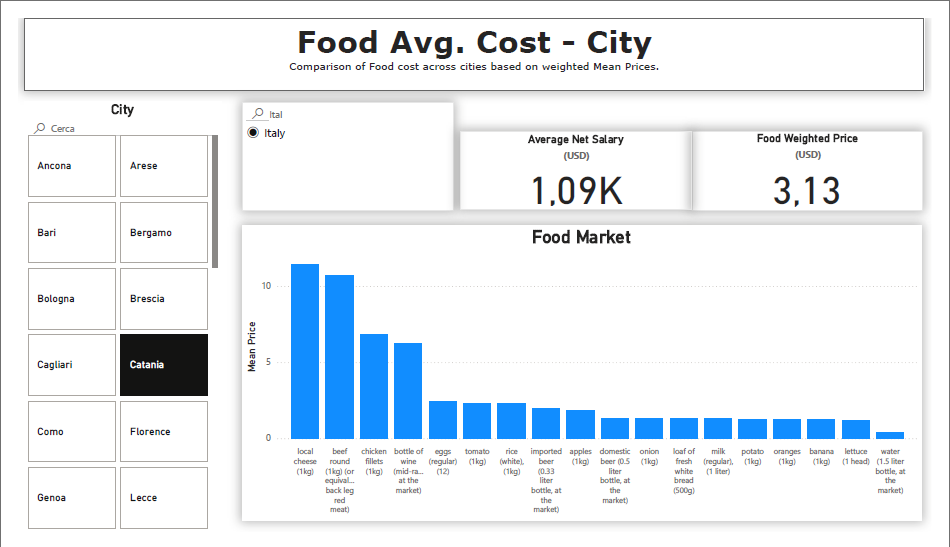

The page's visual inventory and layout, read from the dashboard file:
{"tool":"powerbi","page":{"name":"Food","canvas":[1280,720],"ordinal":2},"visuals":[{"type":"columnChart","title":"Food Market","fields":{"Y":["livingcost vw_valcar_transformed.Avg_Food_City"],"Category":["livingcost vw_valcar_transformed.Paramethers"]},"box":[314.3,291.4,951.4,412.9],"z":0},{"type":"textbox","box":[9,0,1260.9,101.6],"z":1000},{"type":"advancedSlicerVisual","title":"City","fields":{"Values":["livingcost vw_valcar_transformed.CityName"]},"box":[8.7,117.3,276.6,602.5],"z":2000},{"type":"listSlicer","fields":{"Values":["livingcost vw_valcar_transformed.Country"]},"box":[314,118,296,152],"z":3000},{"type":"card","title":"Food Weighted Price","fields":{"Values":["livingcost vw_valcar_transformed.Avg_Food_City"]},"box":[944,158,324,112],"z":4000},{"type":"card","title":"Average Net Salary","fields":{"Values":["livingcost vw_valcar_transformed.Avg_Salary_City"]},"box":[618.8,158.8,325,110],"z":5000}]}

Visuals, with their boxes in screenshot pixels (x1, y1, x2, y2), scaled from the page's 1280x720 canvas onto the 950x547 screenshot:
"Food Market" columnChart: 233:221:939:535
textbox: 7:0:943:77
"City" advancedSlicerVisual: 6:89:212:546
listSlicer - livingcost vw_valcar_transformed.Country: 233:90:453:205
"Food Weighted Price" card: 701:120:941:205
"Average Net Salary" card: 459:121:700:204
